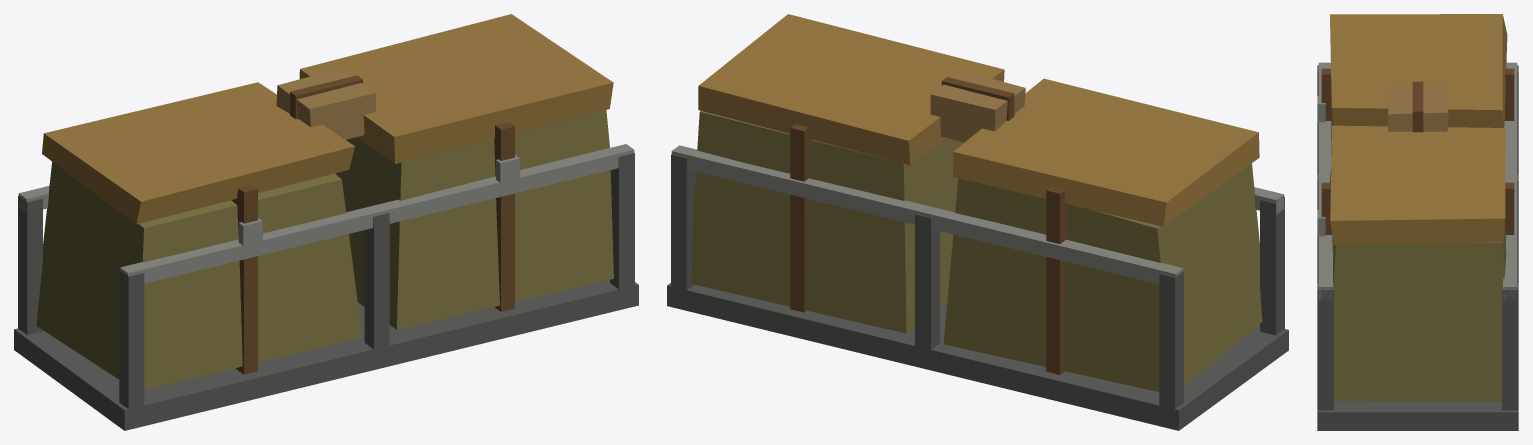
The model's file is cargo_panniers_loaded.glb.
The picture shows the model from 3 angles, left to right: view 1: azimuth 30°, elevation 25°; view 2: azimuth 150°, elevation 25°; view 3: azimuth 270°, elevation 25°; orthographic projection. The views are drawn at different scales.
Parts seen in each view (by area): view 1: cargo_panniers_loaded; view 2: cargo_panniers_loaded; view 3: cargo_panniers_loaded.
Part boxes in pixels (<box>): cargo_panniers_loaded: <box>14,14,638,430</box>; cargo_panniers_loaded: <box>667,14,1288,430</box>; cargo_panniers_loaded: <box>1317,14,1518,430</box>.
Size of the model in its own units: 1.3 by 0.585 by 0.484.
